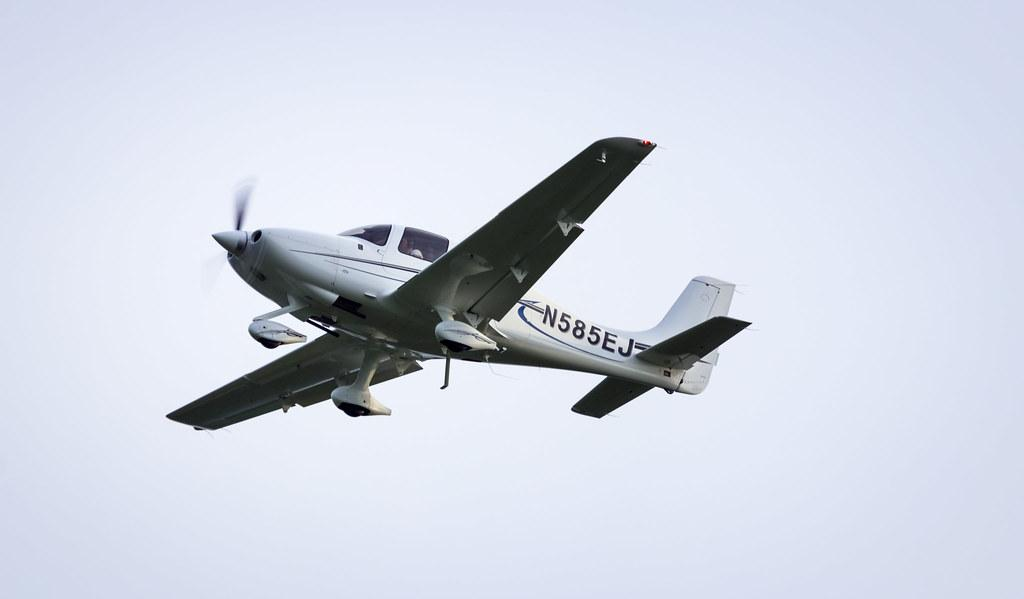plane: (165, 135, 753, 432)
